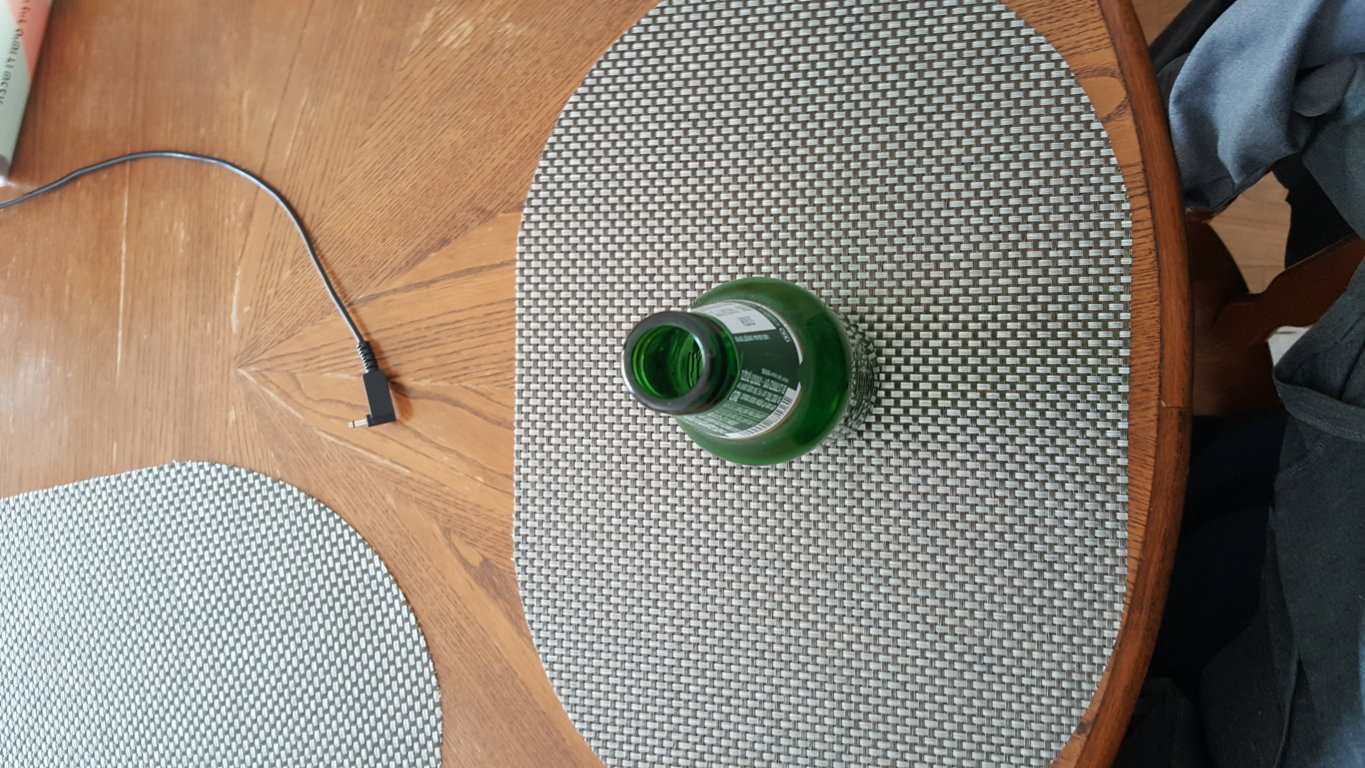beer: (624, 288, 875, 457)
